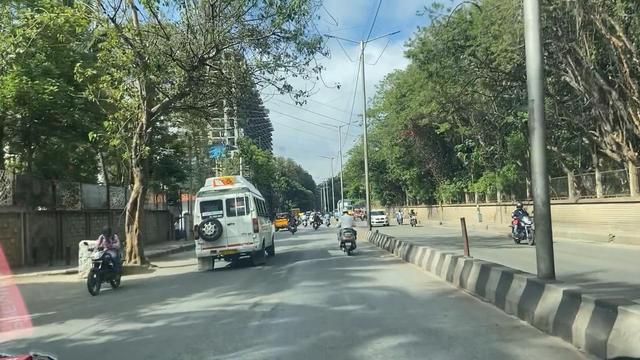HMV: (203, 177, 280, 271), (338, 208, 366, 255)
LMV: (79, 217, 129, 296)
